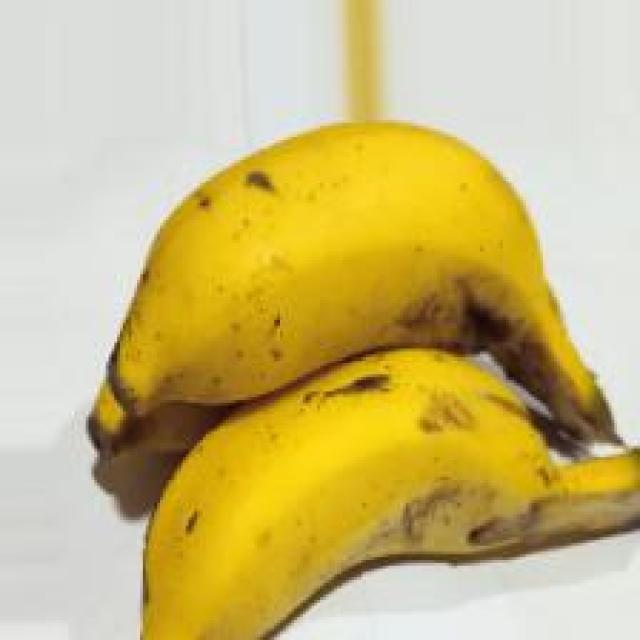bananas: (62, 113, 613, 462)
